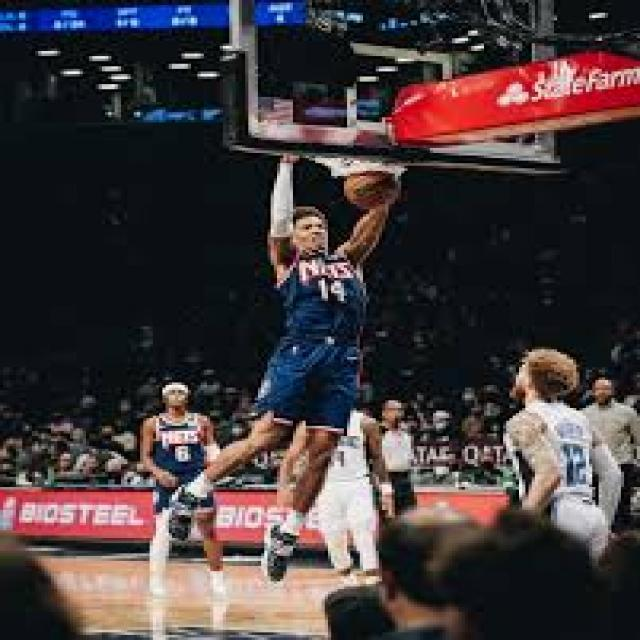rim: (350, 163, 398, 209)
